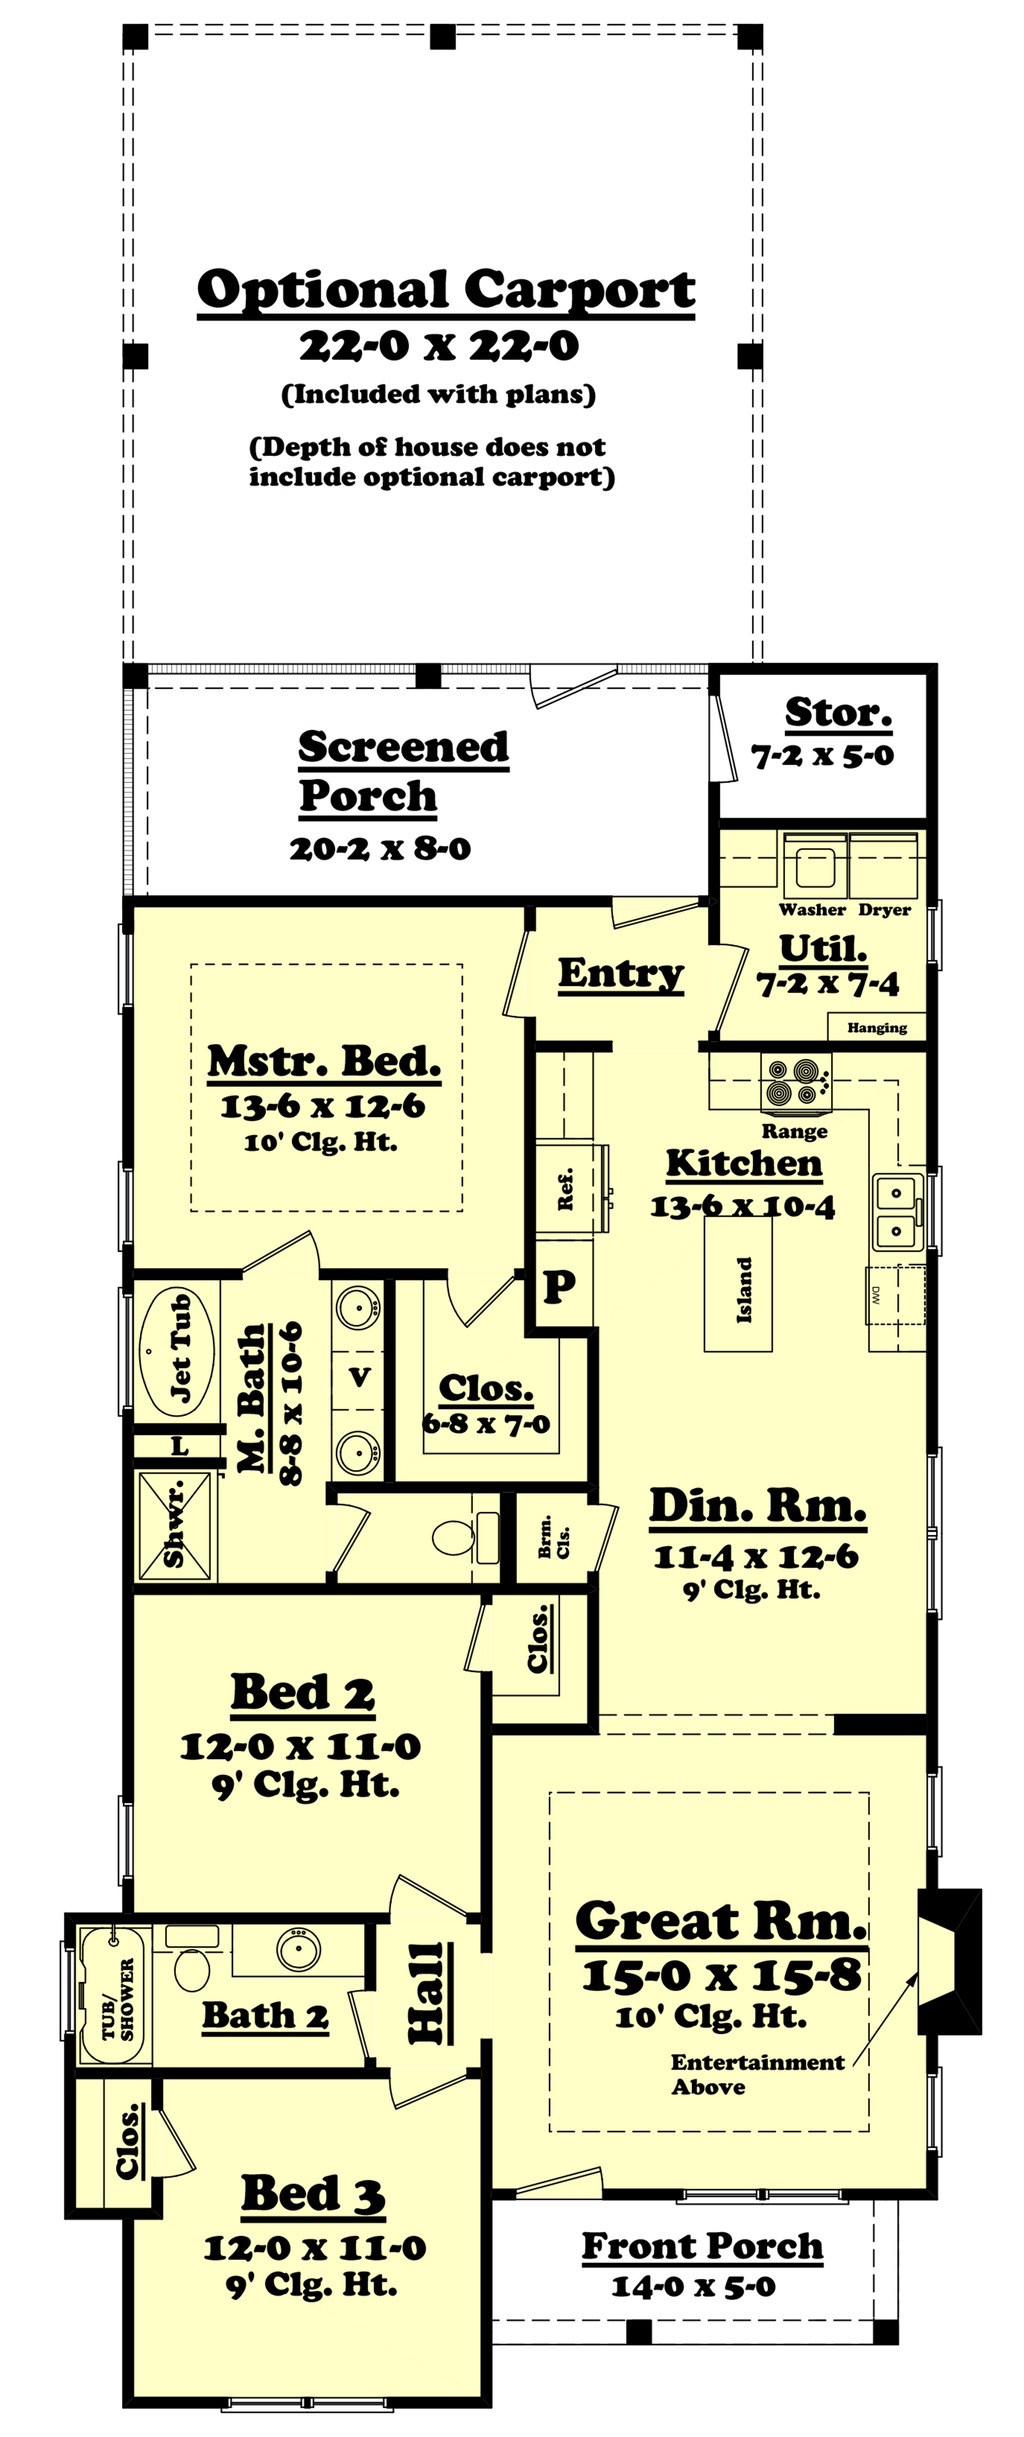door: (228, 1222, 331, 1292), (373, 1868, 460, 1929), (440, 1264, 514, 1326)
large_sink: (151, 1924, 232, 1996), (426, 1500, 502, 1568)
small_sink: (319, 1282, 407, 1480), (228, 1918, 357, 1989)
twin_sink: (866, 1158, 929, 1267)
windows: (671, 2176, 872, 2221), (214, 2387, 402, 2425)
